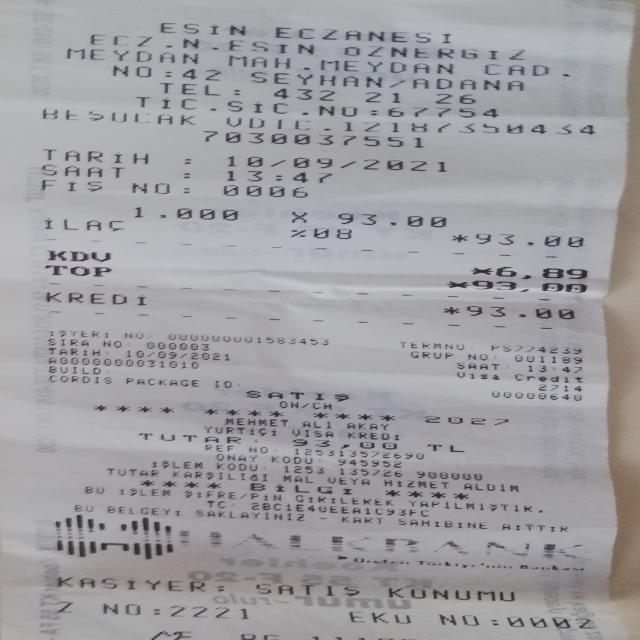text: (132, 96, 495, 118), (225, 117, 595, 135), (89, 33, 314, 54), (227, 54, 452, 74), (223, 154, 448, 172), (199, 130, 423, 148), (40, 107, 198, 128), (273, 27, 453, 44), (340, 45, 523, 60), (250, 502, 431, 516), (52, 577, 204, 592), (415, 73, 521, 94), (246, 71, 381, 87), (66, 48, 197, 64), (379, 587, 518, 602), (166, 333, 327, 345), (47, 357, 199, 369), (47, 290, 148, 306), (463, 305, 576, 319), (40, 149, 150, 163), (336, 213, 446, 227), (297, 448, 425, 460), (475, 233, 582, 247), (472, 280, 586, 293), (174, 468, 266, 484), (176, 602, 247, 622), (156, 21, 250, 36), (132, 207, 240, 220), (498, 264, 585, 280), (225, 171, 336, 183), (42, 162, 124, 178), (195, 508, 303, 520), (406, 500, 532, 510), (250, 585, 362, 596), (294, 494, 394, 506), (505, 616, 595, 629), (291, 439, 396, 450), (138, 433, 242, 444), (425, 413, 506, 427), (247, 391, 349, 402), (124, 350, 232, 360), (222, 185, 308, 197), (45, 218, 122, 231), (399, 518, 487, 529), (45, 263, 109, 278), (488, 344, 582, 354), (493, 391, 581, 401), (344, 611, 411, 624), (45, 249, 112, 262), (270, 88, 334, 101), (125, 377, 199, 388), (482, 64, 548, 76), (105, 506, 182, 516), (516, 372, 580, 384), (384, 478, 448, 490), (39, 179, 103, 191), (416, 560, 512, 568), (157, 82, 220, 94), (510, 354, 583, 364), (206, 427, 276, 437), (227, 416, 284, 428), (397, 340, 465, 350), (414, 470, 482, 480), (148, 340, 208, 351), (336, 468, 402, 478), (498, 523, 570, 532), (337, 458, 401, 468), (47, 328, 111, 338), (528, 361, 580, 373), (108, 466, 154, 479), (48, 375, 113, 384), (518, 564, 585, 572), (110, 65, 151, 78), (100, 602, 138, 616), (462, 482, 520, 491), (130, 182, 170, 195), (116, 487, 171, 496), (181, 489, 236, 498), (438, 614, 479, 626), (362, 91, 402, 103), (434, 92, 474, 104), (312, 226, 352, 238), (183, 68, 219, 81), (457, 360, 496, 372), (150, 459, 202, 468), (354, 557, 412, 565), (48, 365, 98, 374), (48, 348, 102, 356), (346, 432, 400, 440), (458, 370, 497, 381), (272, 454, 311, 465), (152, 629, 190, 640), (213, 462, 259, 471), (539, 383, 580, 393), (218, 452, 255, 463), (408, 350, 452, 359), (47, 338, 90, 347), (327, 478, 370, 487), (282, 465, 324, 474), (342, 515, 384, 524), (343, 422, 388, 430), (292, 430, 334, 438), (284, 473, 312, 485), (429, 443, 465, 452), (303, 418, 329, 429), (250, 492, 281, 501), (472, 264, 492, 277), (54, 601, 74, 614), (208, 498, 228, 510), (206, 444, 235, 452), (448, 278, 467, 290), (83, 484, 103, 495), (293, 208, 305, 226), (74, 502, 94, 512), (467, 352, 488, 361), (392, 72, 402, 90), (312, 400, 330, 410), (103, 338, 120, 348), (280, 400, 297, 410), (288, 228, 306, 237), (442, 306, 458, 315), (250, 446, 268, 454), (124, 332, 146, 338), (215, 381, 233, 388), (451, 234, 466, 242), (182, 156, 191, 167), (158, 601, 162, 620), (218, 584, 226, 593), (491, 617, 498, 627), (316, 516, 328, 521), (563, 70, 570, 78), (182, 172, 191, 178), (183, 185, 188, 194), (165, 70, 170, 78), (236, 82, 238, 98), (303, 400, 306, 410), (273, 445, 276, 455), (540, 502, 542, 514), (506, 362, 508, 373)
